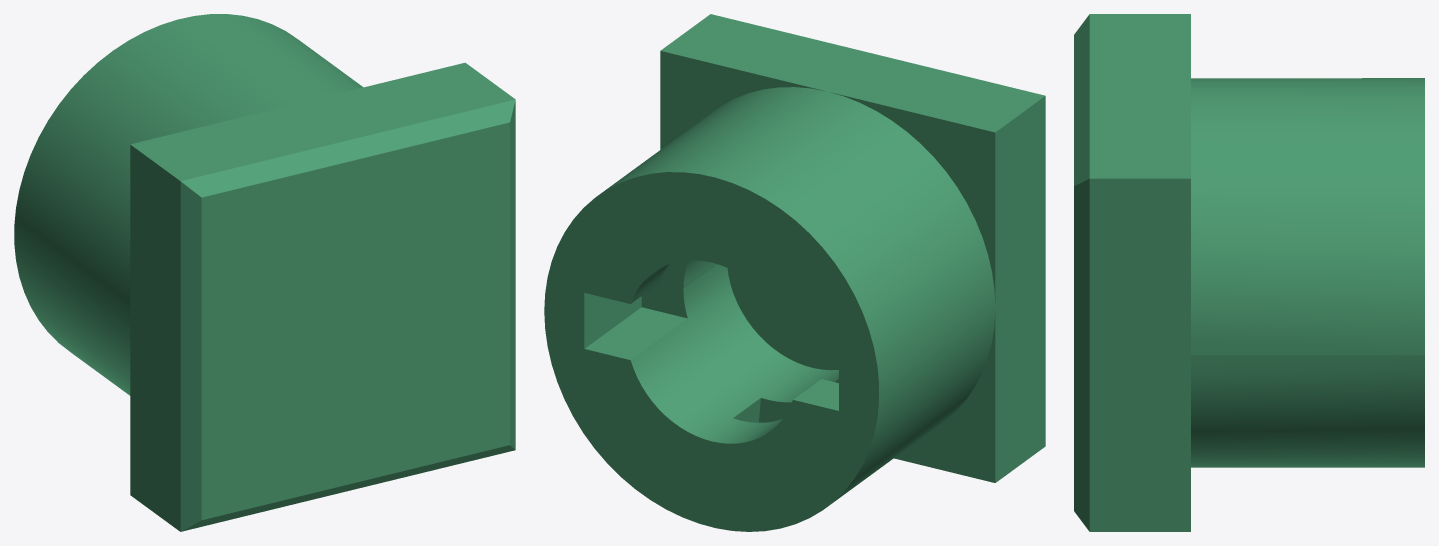
File: .ponteira_A_quadrada_20x20.step.glb
The picture shows the model from 3 angles, left to right: view 1: azimuth 30°, elevation 25°; view 2: azimuth 150°, elevation 25°; view 3: azimuth 270°, elevation 25°; orthographic projection.
Parts seen in each view (by area): view 1: o1.1; view 2: o1.1; view 3: o1.1.
Boxes of the visible parts, x1=… form: o1.1: x1=14, y1=14, x2=515, y2=531; o1.1: x1=544, y1=14, x2=1045, y2=531; o1.1: x1=1074, y1=14, x2=1424, y2=531.
Bounding box in the file's own units: 0.02 × 0.02 × 0.018.
